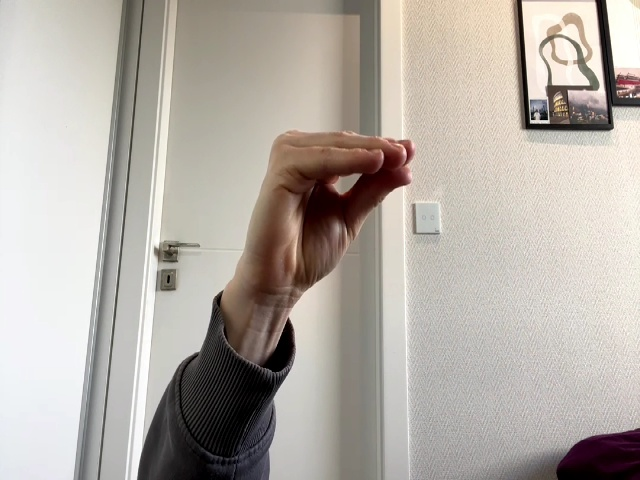E: (248, 131, 414, 308)
